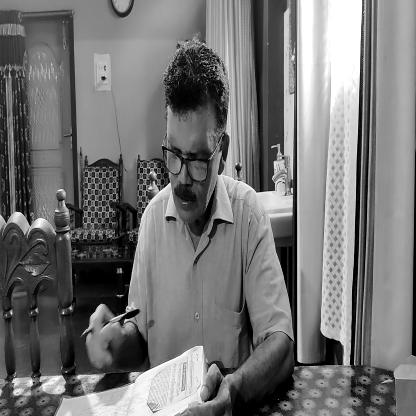Normal: (162, 40, 226, 223)
